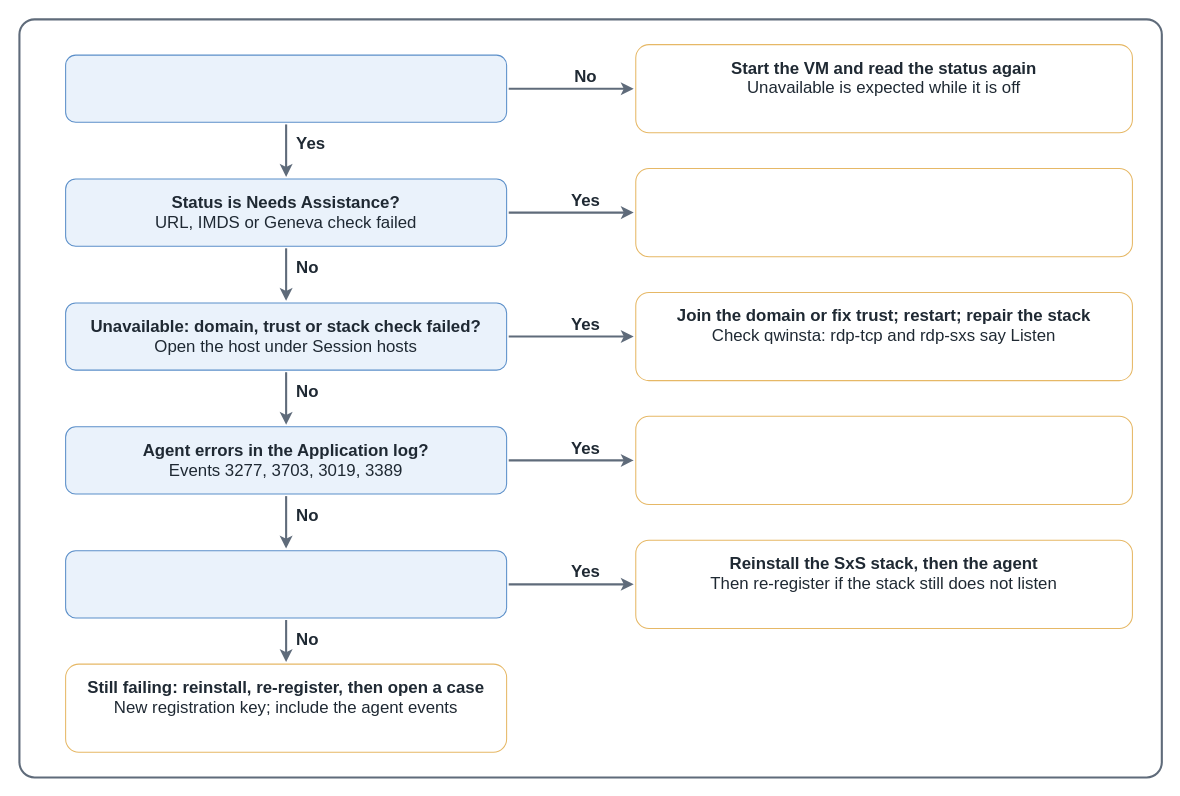
Some shapes in this 1180 by 796 pixel diagram are drawn without their labels. Each missing label, with the centre of its shape:
Is the VM running? Power state in the Azure portal: pixel 286 88
Match the event to its fix URLs, broker address, installer, .NET Framework: pixel 883 460
Stuck in Upgrading or Upgrade Failed?: pixel 286 584
Unblock URLs and 169.254.169.254; fix the Geneva agent Users can still connect: pixel 883 212
